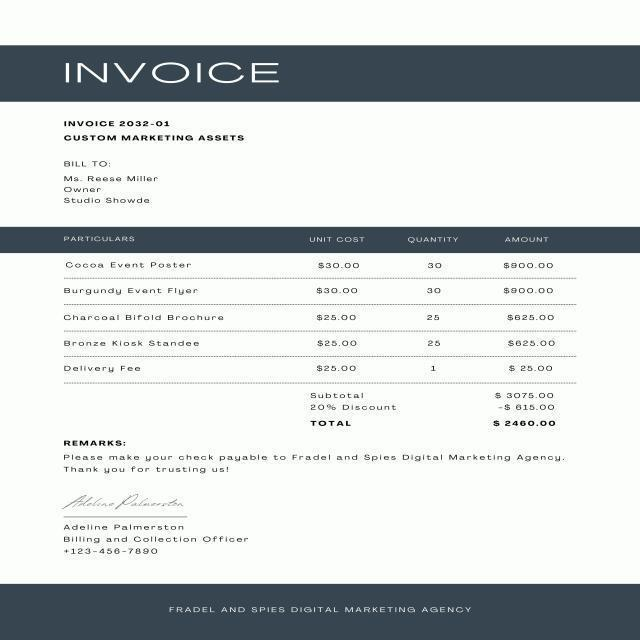paragraph: (56, 436, 581, 481), (51, 49, 307, 99), (303, 388, 568, 430), (59, 522, 254, 570), (58, 106, 253, 146), (54, 151, 169, 211), (54, 491, 200, 521)
table: (50, 232, 593, 384)
